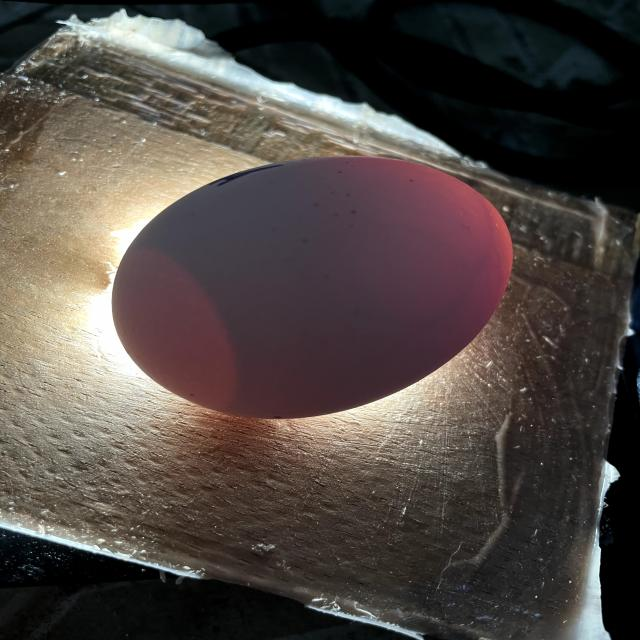fertile: (112, 156, 513, 419)
